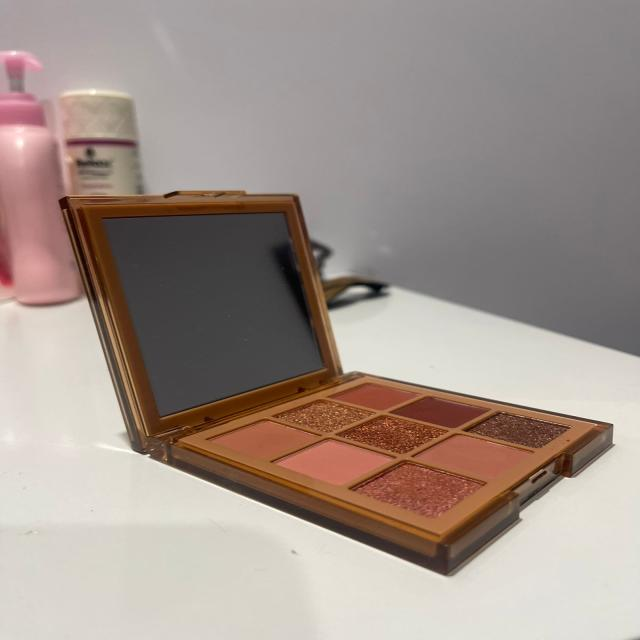blush: (289, 422, 393, 488)
bronzer: (198, 414, 310, 474)
eye shade: (270, 376, 562, 481), (358, 459, 475, 527)
